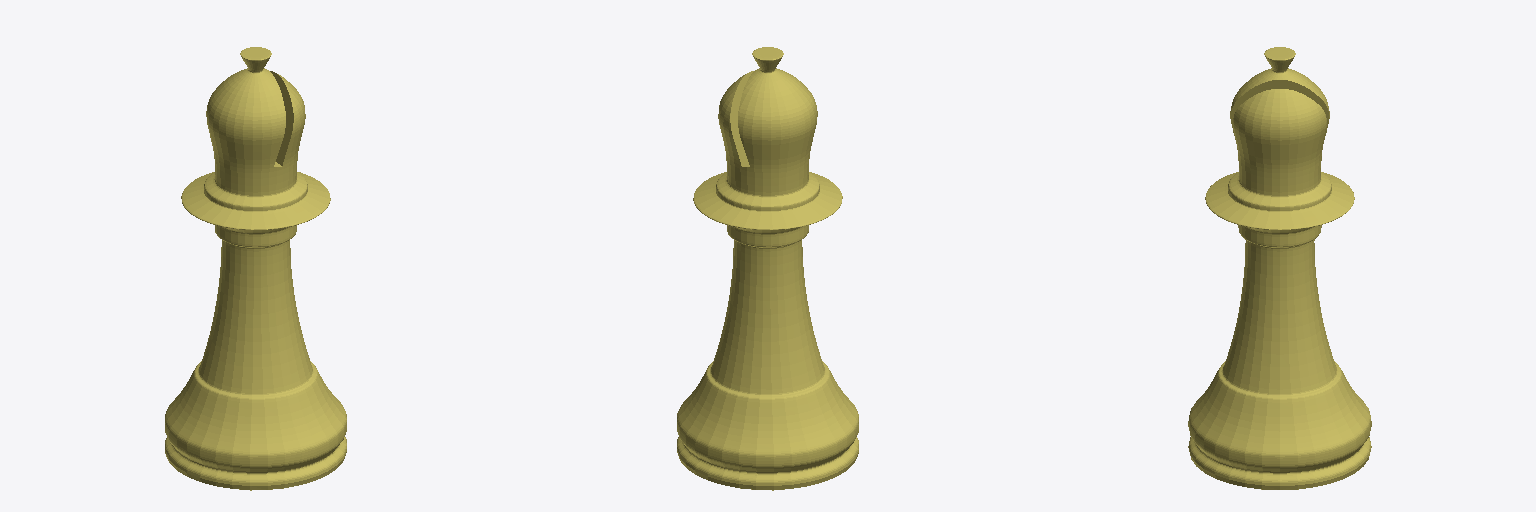
File: white_bishop.obj
The picture shows the model from 3 angles: view 1: azimuth 30°, elevation 25°; view 2: azimuth 150°, elevation 25°; view 3: azimuth 270°, elevation 25°; orthographic projection.
Visible parts, largest first — view 1: Cube.001; view 2: Cube.001; view 3: Cube.001.
Boxes of the visible parts, box(x1,y1,x2,y2) form: Cube.001: box(165, 47, 346, 490); Cube.001: box(677, 47, 858, 490); Cube.001: box(1188, 47, 1371, 489).
Bounding box in the file's own units: 0.0357 × 0.0872 × 0.0357.